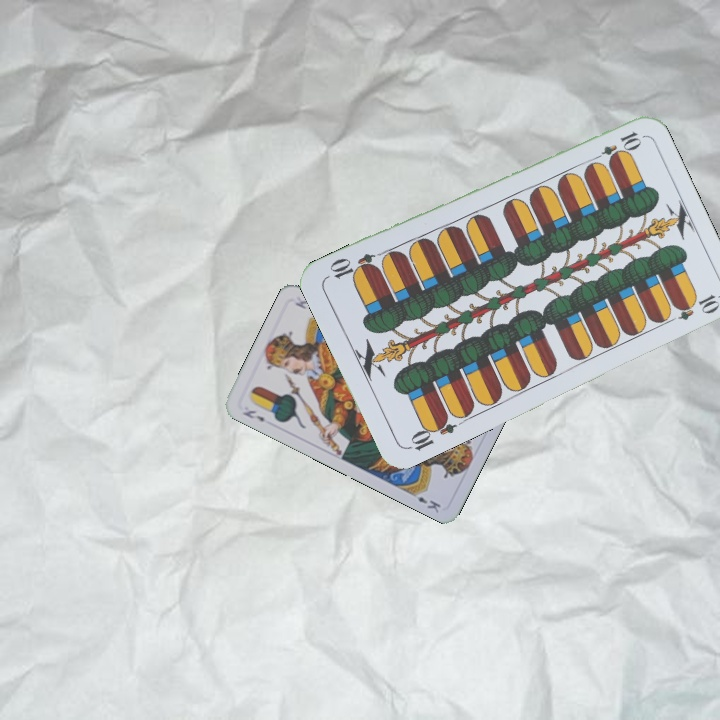E10: (403, 411, 459, 454), (587, 127, 644, 166)
EK: (239, 406, 267, 424)
